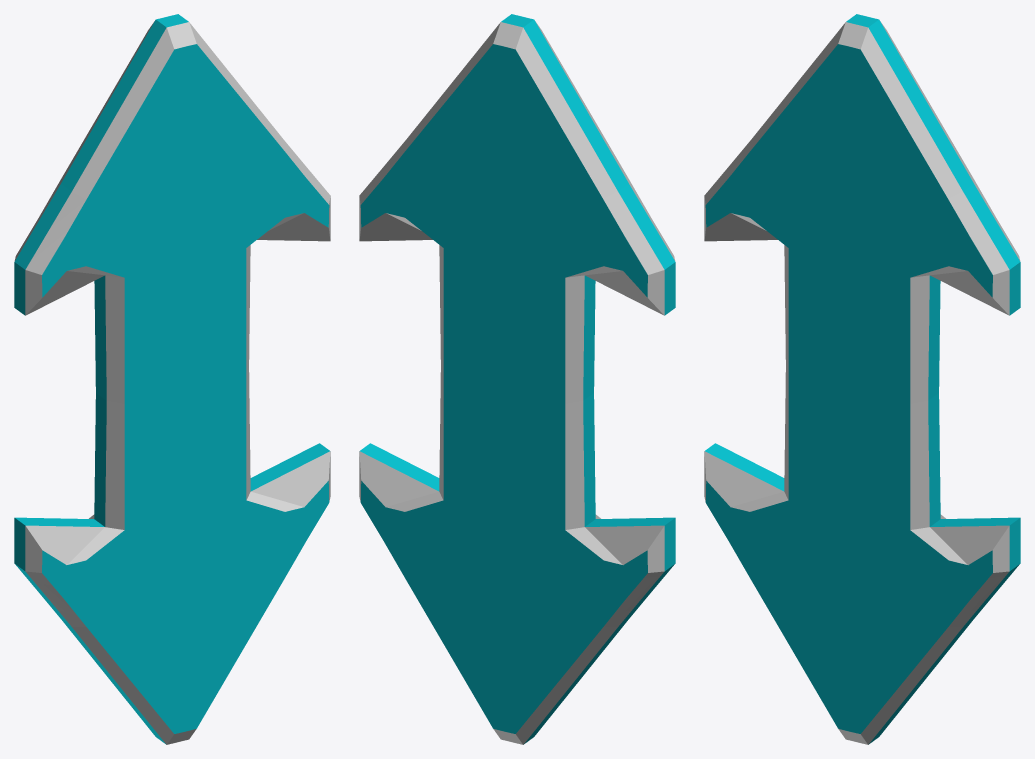
File: NavArrow6Lateral.fbx
3 renders of one model, left to right at view 1: azimuth 30°, elevation 25°; view 2: azimuth 150°, elevation 25°; view 3: azimuth 330°, elevation 25°, orthographic.
Parts seen in each view (by area): view 1: NavArrowForwardLAteral; view 2: NavArrowForwardLAteral; view 3: NavArrowForwardLAteral.
Part boxes in pixels (x1,y1,x2,y2): NavArrowForwardLAteral: (14, 14, 330, 744); NavArrowForwardLAteral: (359, 14, 675, 744); NavArrowForwardLAteral: (704, 14, 1020, 744).
Bounding box in the file's own units: 79.69 × 179 × 11.86.
